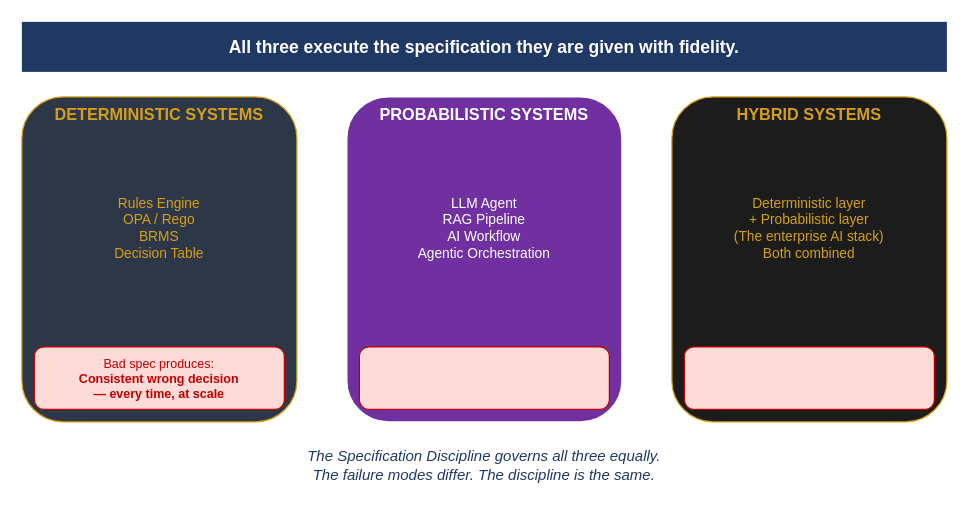
The diagram is 969 pixels wide and 505 high, and some of its shapes have lost their labels. Each missing label, with the centre of its shape:
"Bad spec produces: Both failure modes simultaneously" belongs at point 808,377.
"Bad spec produces: Variable invisible failure — hard to detect, hard to diagnose" belongs at point 483,377.
